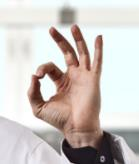left: (26, 21, 106, 129)
